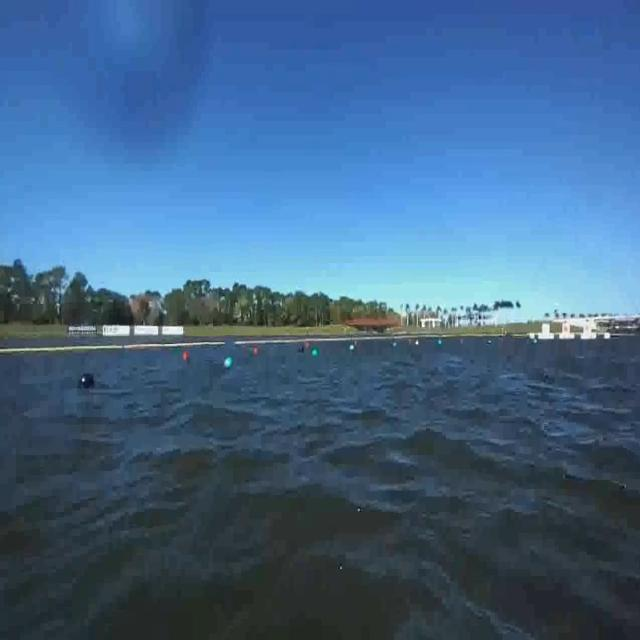black-buoy: (78, 374, 98, 393)
green-buoy: (224, 357, 233, 368)
red-buoy: (182, 346, 192, 364)
